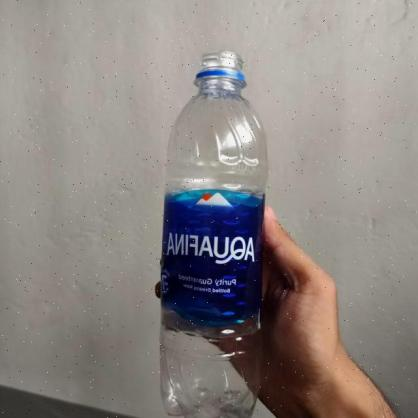bottle: (151, 49, 271, 418)
label: (154, 190, 268, 330)
